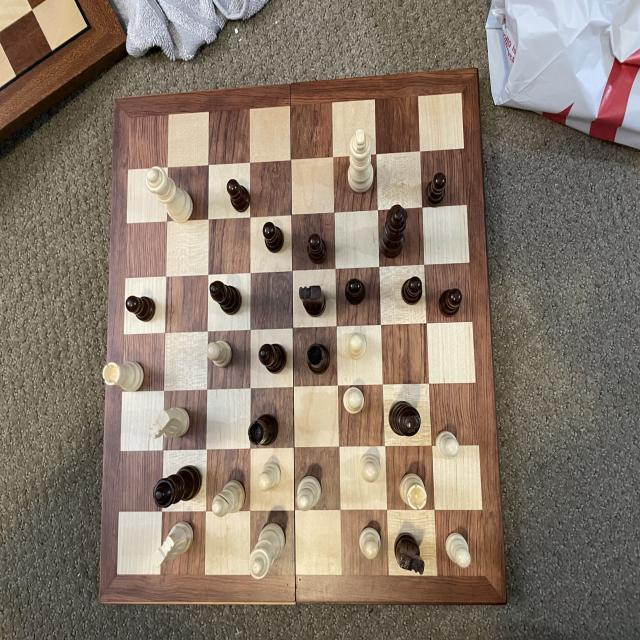chess-table-corners: (102, 552, 146, 590), (441, 82, 482, 122), (470, 555, 504, 597), (116, 100, 147, 138)
